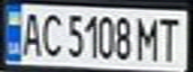0: (97, 12, 118, 61)
1: (81, 11, 100, 60)
5: (63, 10, 84, 58)
8: (115, 12, 136, 61)
A: (18, 9, 45, 57)
C: (39, 9, 66, 58)
M: (136, 14, 163, 62)
T: (154, 14, 184, 62)
